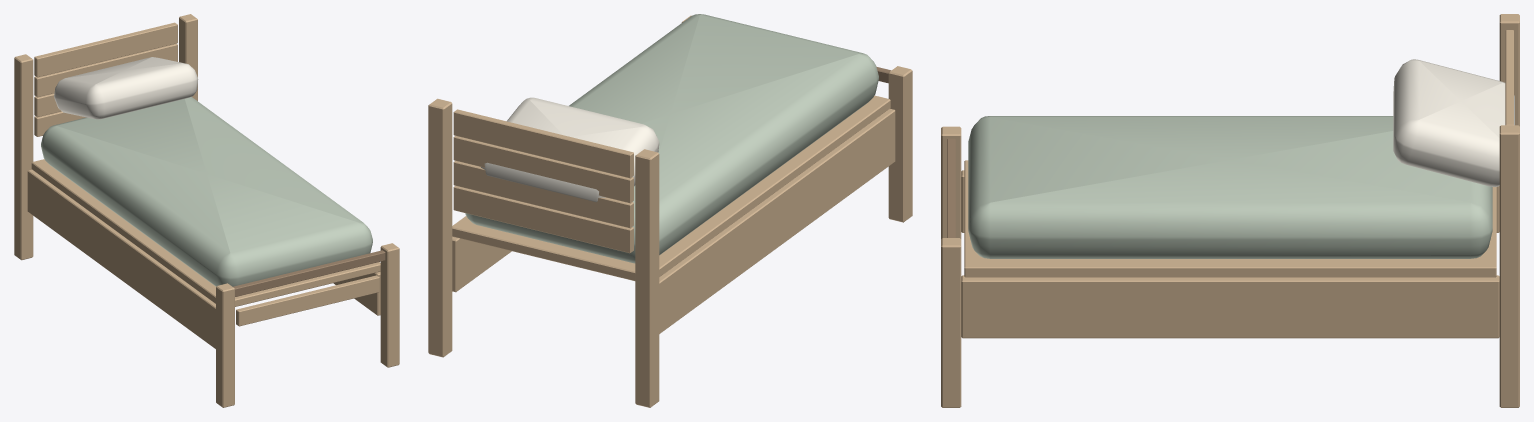
Rendered from bed_single.glb.
3 views of the same model, side by side, from view 1: azimuth 30°, elevation 25°; view 2: azimuth 150°, elevation 25°; view 3: azimuth 270°, elevation 25° (orthographic). The views are drawn at different scales.
Parts seen in each view (by area): view 1: single-bed-timber; view 2: single-bed-timber; view 3: single-bed-timber.
Part boxes in pixels (bbox=[...]): single-bed-timber: bbox=[14, 14, 399, 407]; single-bed-timber: bbox=[428, 14, 912, 407]; single-bed-timber: bbox=[941, 14, 1519, 407].
Bounding box in the file's own units: 0.9801 × 1.05 × 2.
